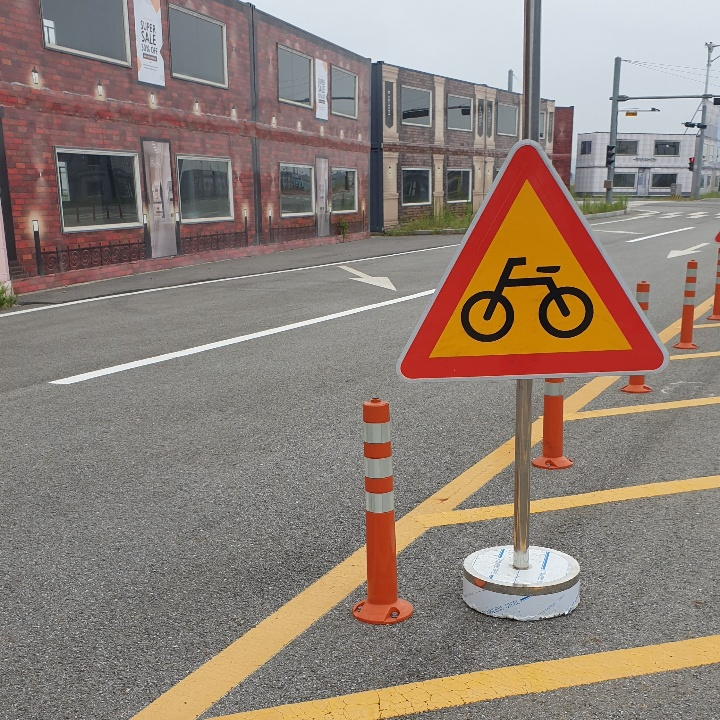bicycle: (399, 137, 665, 373)
